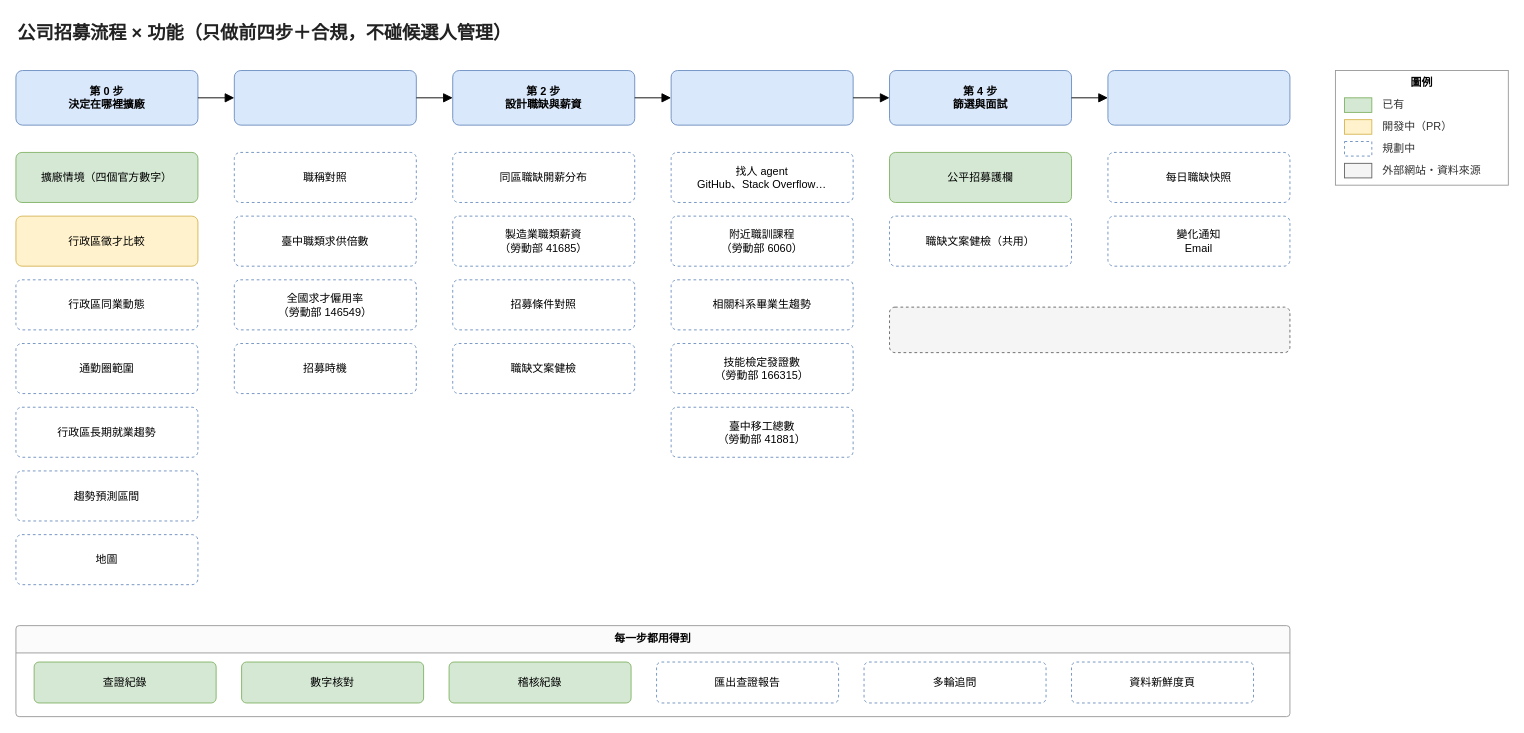
Image size: 1524x733. Some labels were removed from this diagram. Each missing label, with the centre of its shape:
不在範圍：履歷管理、面試排程、錄用作業（交給 ATS／人資）: the point at 1089,329
第 1 步 規劃職類與時程: the point at 324,97
第 3 步 決定去哪裡找人: the point at 761,97
第 5–6 步 錄用後持續觀察: the point at 1198,97
